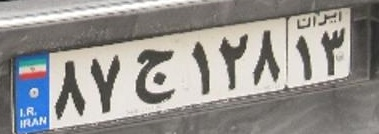character: (127, 45, 182, 105), (49, 57, 86, 119), (87, 52, 122, 117), (183, 34, 214, 97), (216, 29, 248, 90), (251, 25, 281, 86), (318, 28, 346, 78), (292, 34, 316, 81)
